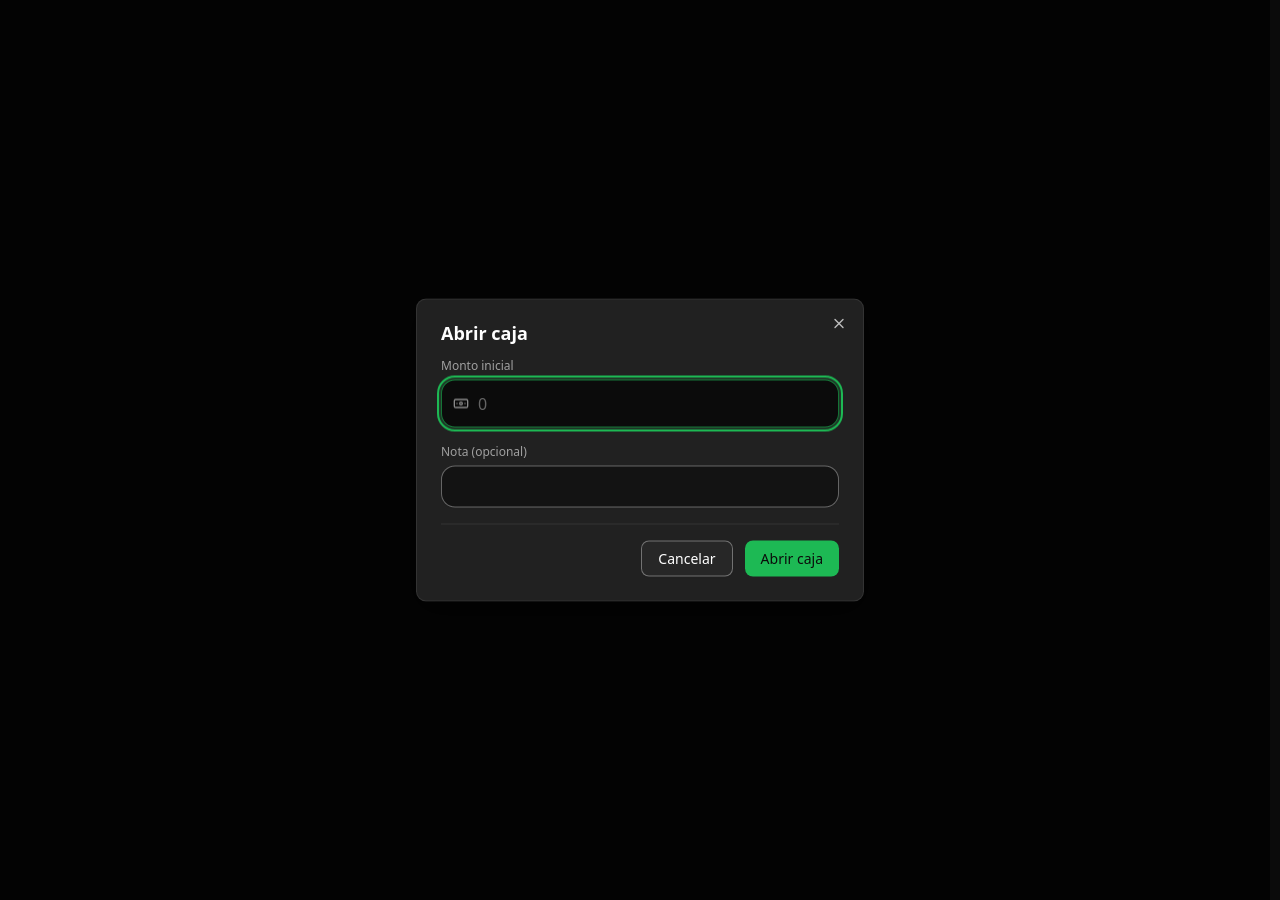
Scenario: OpenCashSessionDialog › maps a 422 field error from the server onto the amount field
In the field labelled "Monto inicial": (640, 404) [441,380,839,428], type "5000"
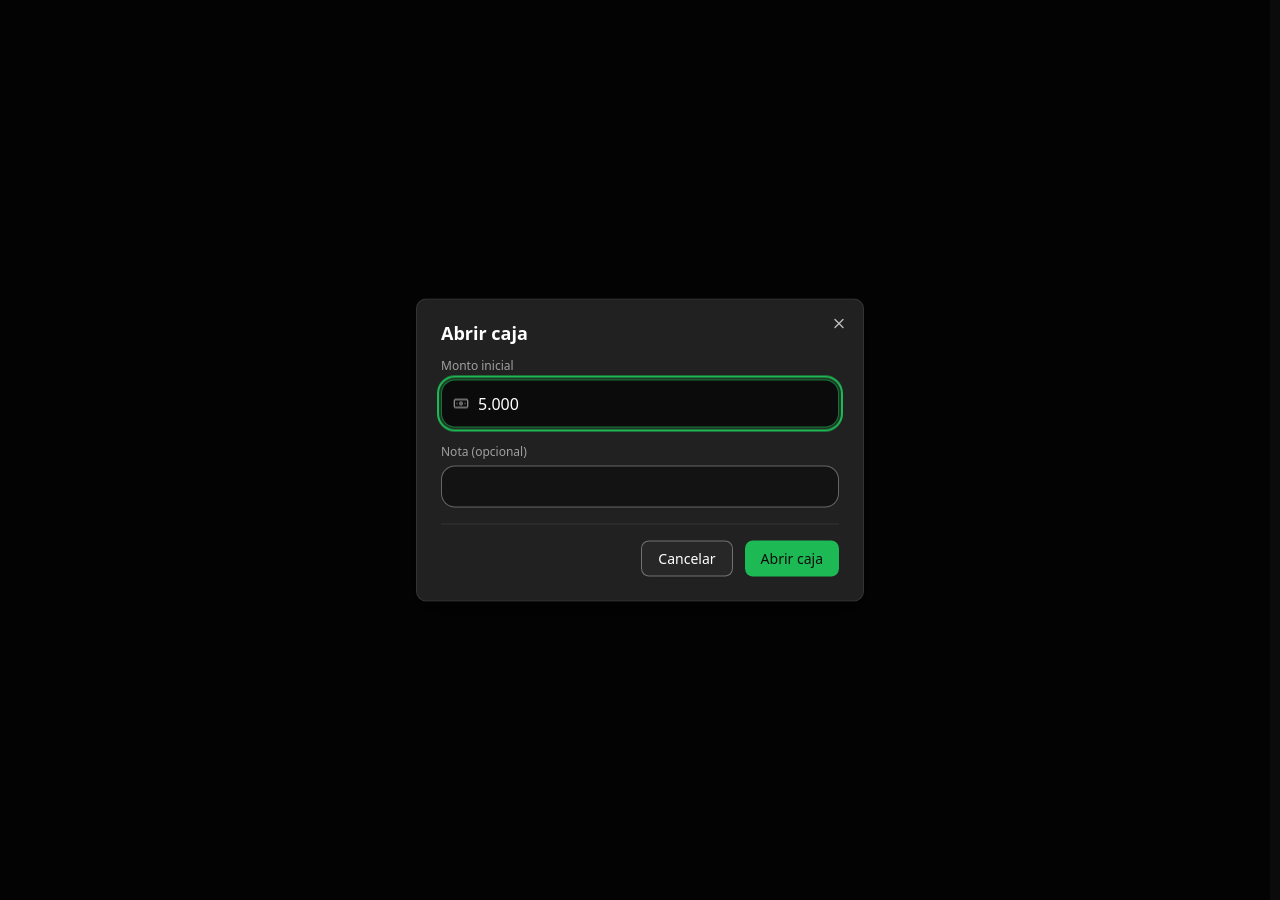
Click the button "Abrir caja": (792, 558) [745,540,839,576]
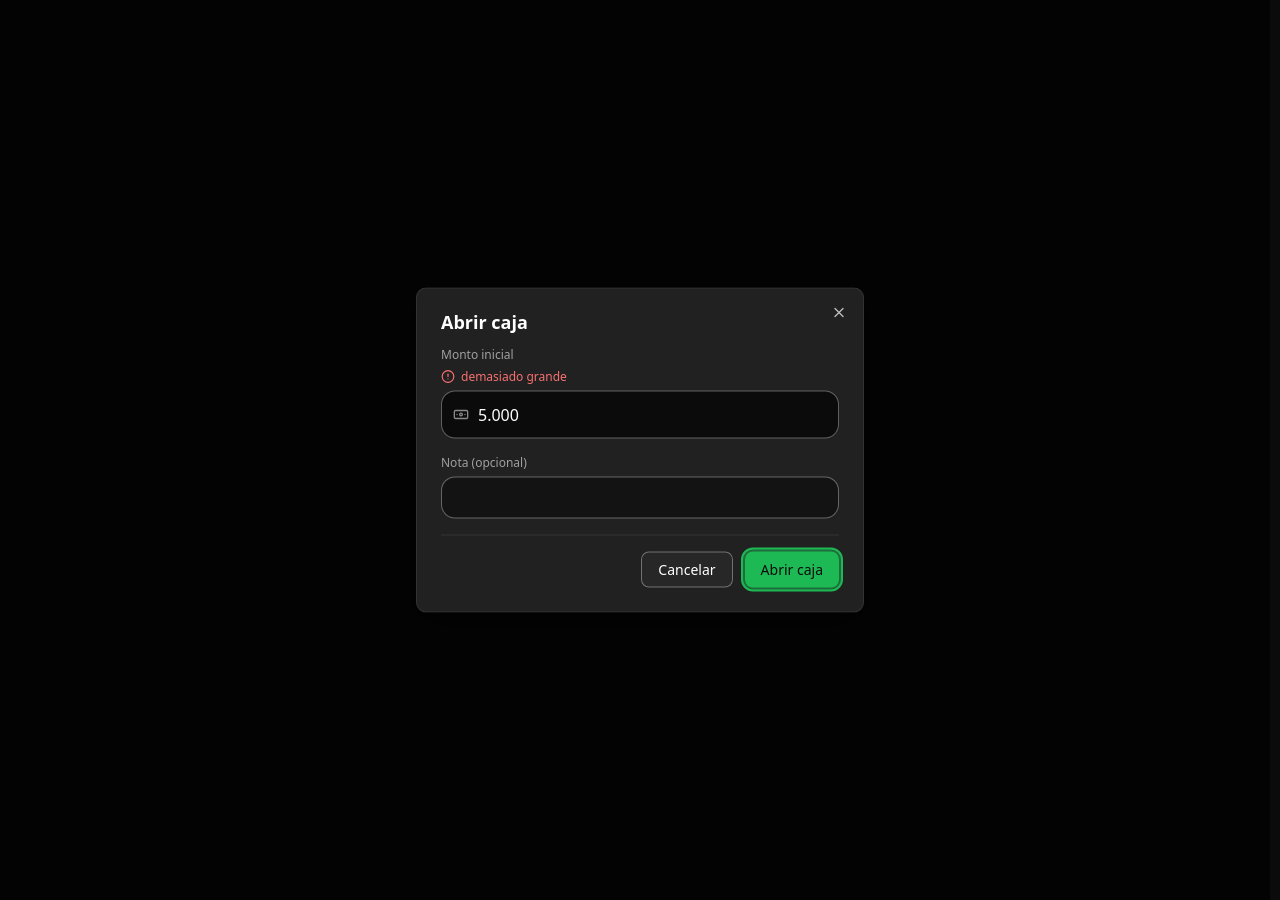
Expected: the text "demasiado grande" is shown, [441,368,567,384]
